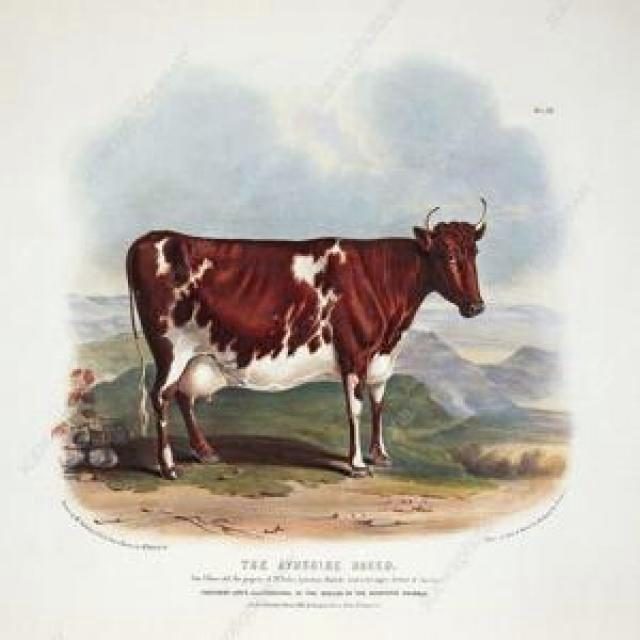cow: (126, 222, 485, 478)
